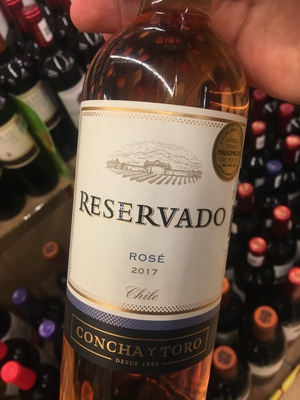reservado rose: (59, 13, 248, 400)
